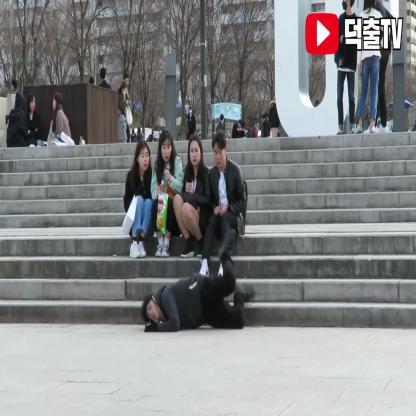Fall_Down: (139, 224, 262, 336)
